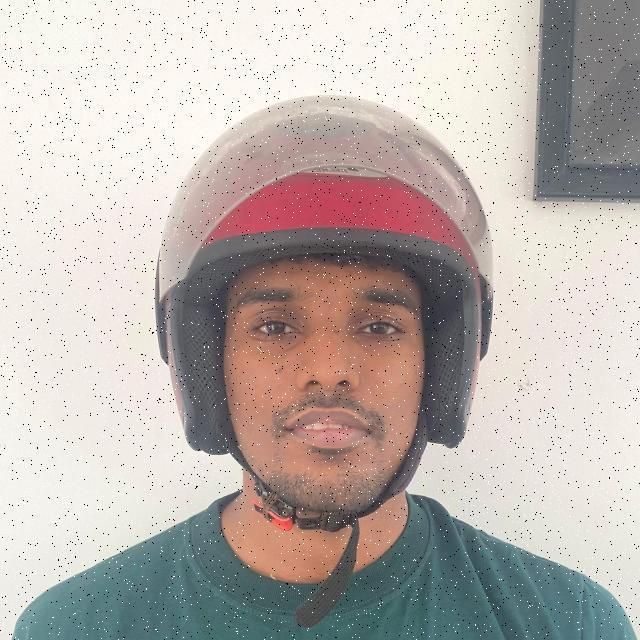helmet: (153, 94, 492, 631)
